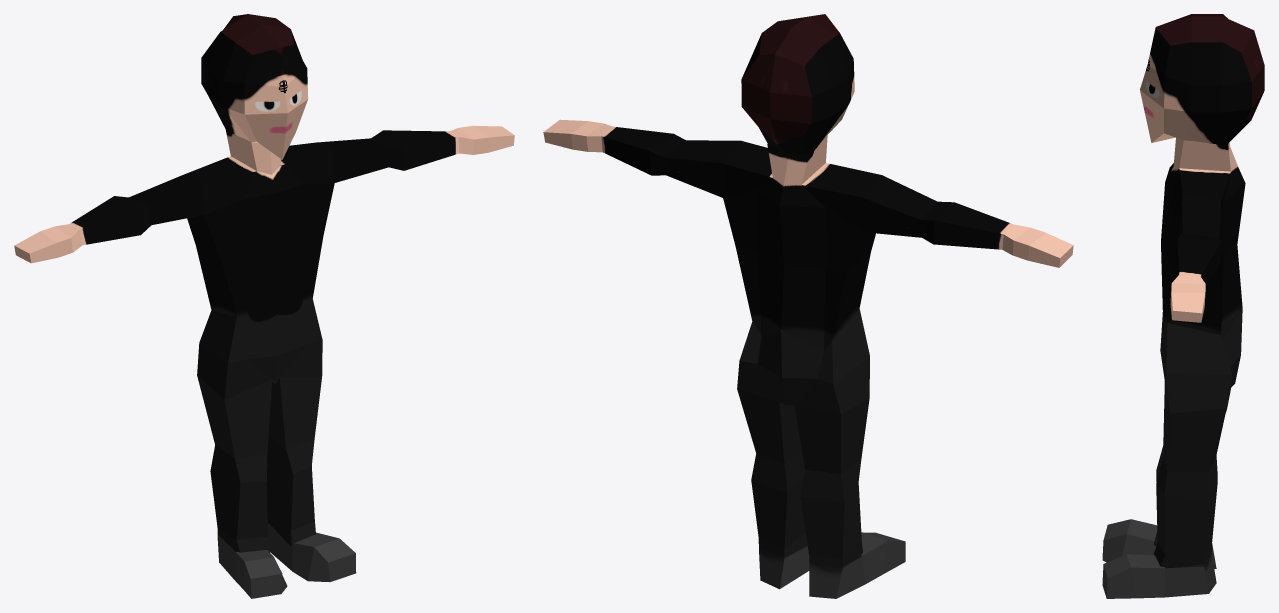
File: lormodel.fbx
The picture shows the model from 3 angles, left to right: view 1: azimuth 30°, elevation 25°; view 2: azimuth 150°, elevation 25°; view 3: azimuth 270°, elevation 25°; orthographic projection. The views are drawn at different scales.
Visible parts, largest first — view 1: Player; view 2: Player; view 3: Player.
Part boxes in pixels (bbox=[...]): Player: bbox=[14, 14, 514, 598]; Player: bbox=[543, 14, 1073, 598]; Player: bbox=[1102, 14, 1264, 598].
Bounding box in the file's own units: 1255 × 1315 × 345.
Materials: 1 (1 with a texture image).
